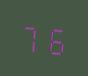seven: (19, 17, 42, 55)
six: (43, 20, 66, 57)
